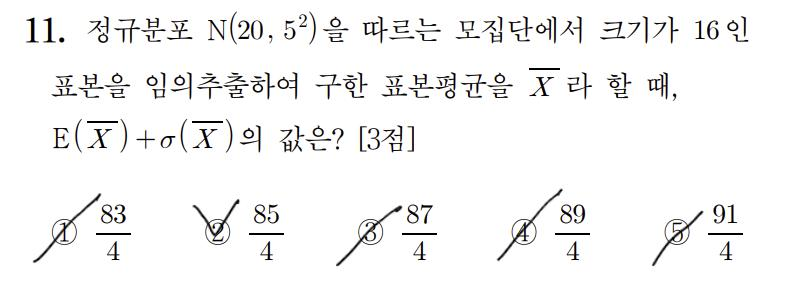1: (191, 199, 242, 248)
paper: (662, 218, 692, 249), (510, 217, 540, 248), (355, 218, 385, 249), (203, 218, 233, 249), (50, 217, 80, 248)
